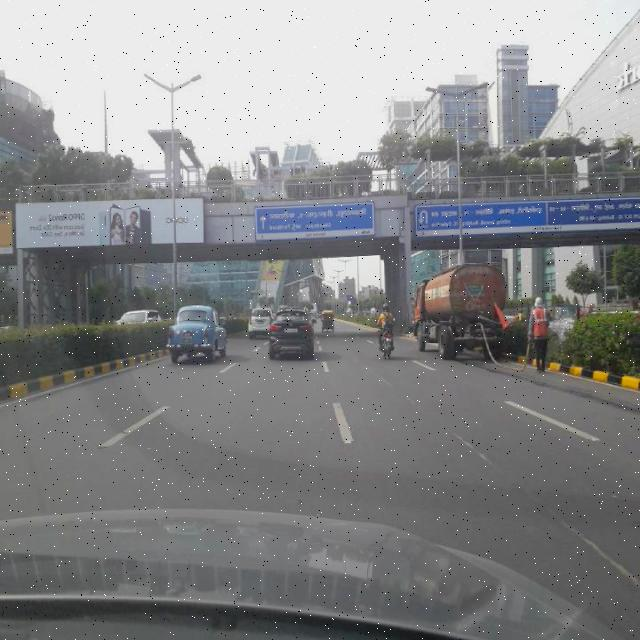D00: (551, 511, 639, 588), (453, 428, 504, 471), (361, 364, 411, 406)
